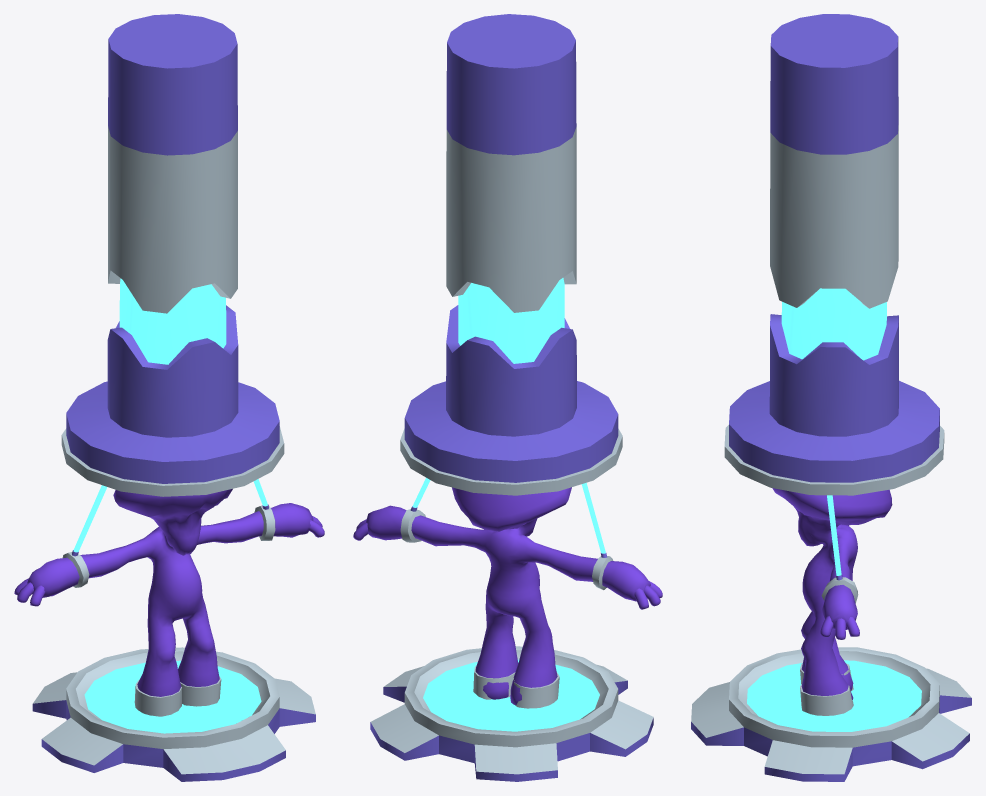
File: CagedMushroom.fbx
3 views of the same model, side by side, from view 1: azimuth 30°, elevation 25°; view 2: azimuth 150°, elevation 25°; view 3: azimuth 270°, elevation 25° (orthographic).
Parts seen in each view (by area): view 1: CagedRedCap, RedCap; view 2: CagedRedCap, RedCap; view 3: CagedRedCap, RedCap.
Boxes of the visible parts, bbox=[...] form: CagedRedCap: bbox=[32, 14, 315, 781]; RedCap: bbox=[14, 489, 324, 696]; CagedRedCap: bbox=[370, 14, 653, 781]; RedCap: bbox=[353, 487, 662, 705]; CagedRedCap: bbox=[691, 14, 971, 781]; RedCap: bbox=[772, 488, 892, 699].
Size of the model in its own units: 328 by 702 by 262.
